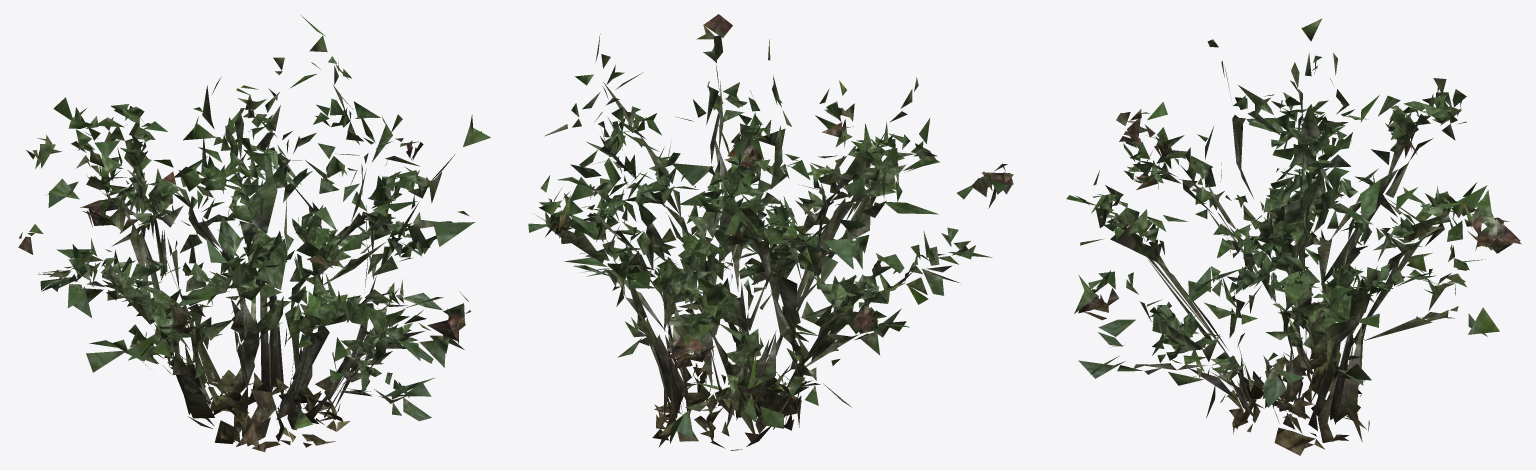
Rendered from poosas_low.glb.
3 views of the same model, side by side, from view 1: azimuth 30°, elevation 25°; view 2: azimuth 150°, elevation 25°; view 3: azimuth 270°, elevation 25° (orthographic). The views are drawn at different scales.
Parts seen in each view (by area): view 1: world; view 2: world; view 3: world.
Part boxes in pixels (x1,y1,x2,y2): world: [18, 15, 490, 452]; world: [528, 14, 1013, 450]; world: [1066, 18, 1521, 455].
Size of the model in its own units: 1.11 by 0.9857 by 1.08.
1 material, 1 textured.
